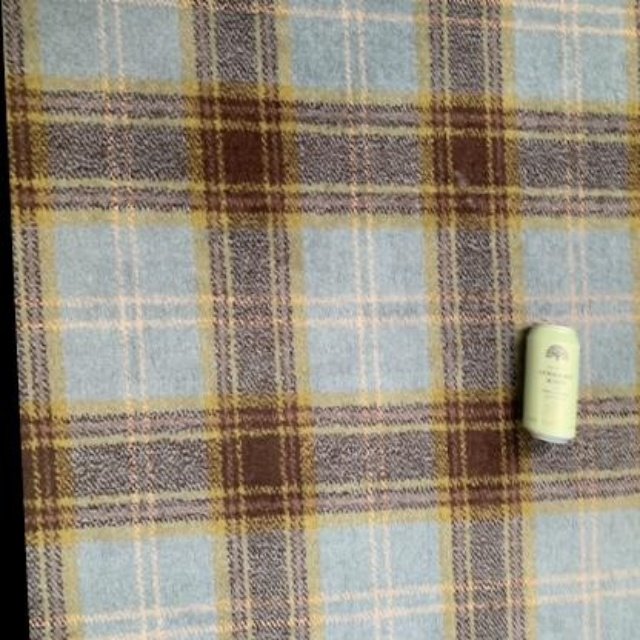trash: (523, 323, 578, 442)
